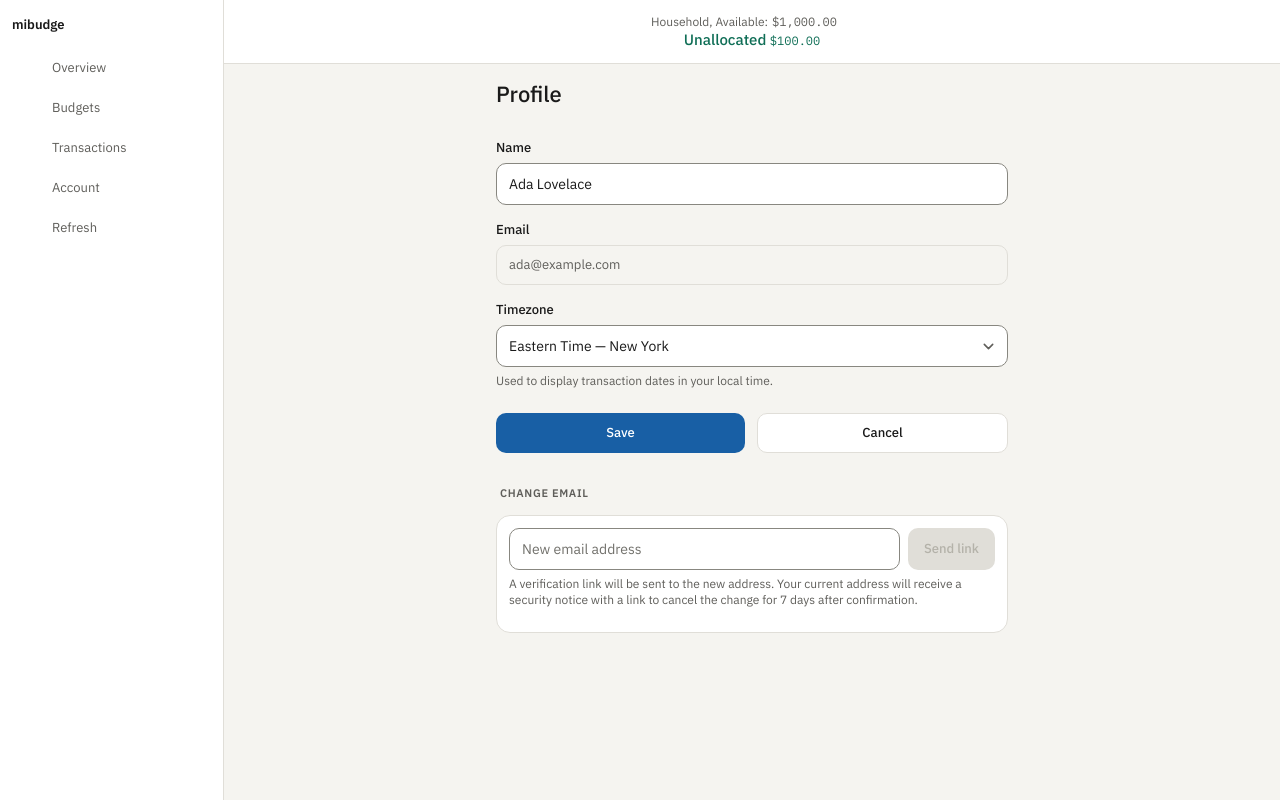
Scenario: UserProfileView › explains a conflicting email change
This screenshot has width=1280, height=800.
Check: the element that starts with "Profile" is shown, box 496,79 -> 1008,632
In the field with placeholder "New email address": x=704, y=548 509,528 -> 900,570, type "new@example.com"
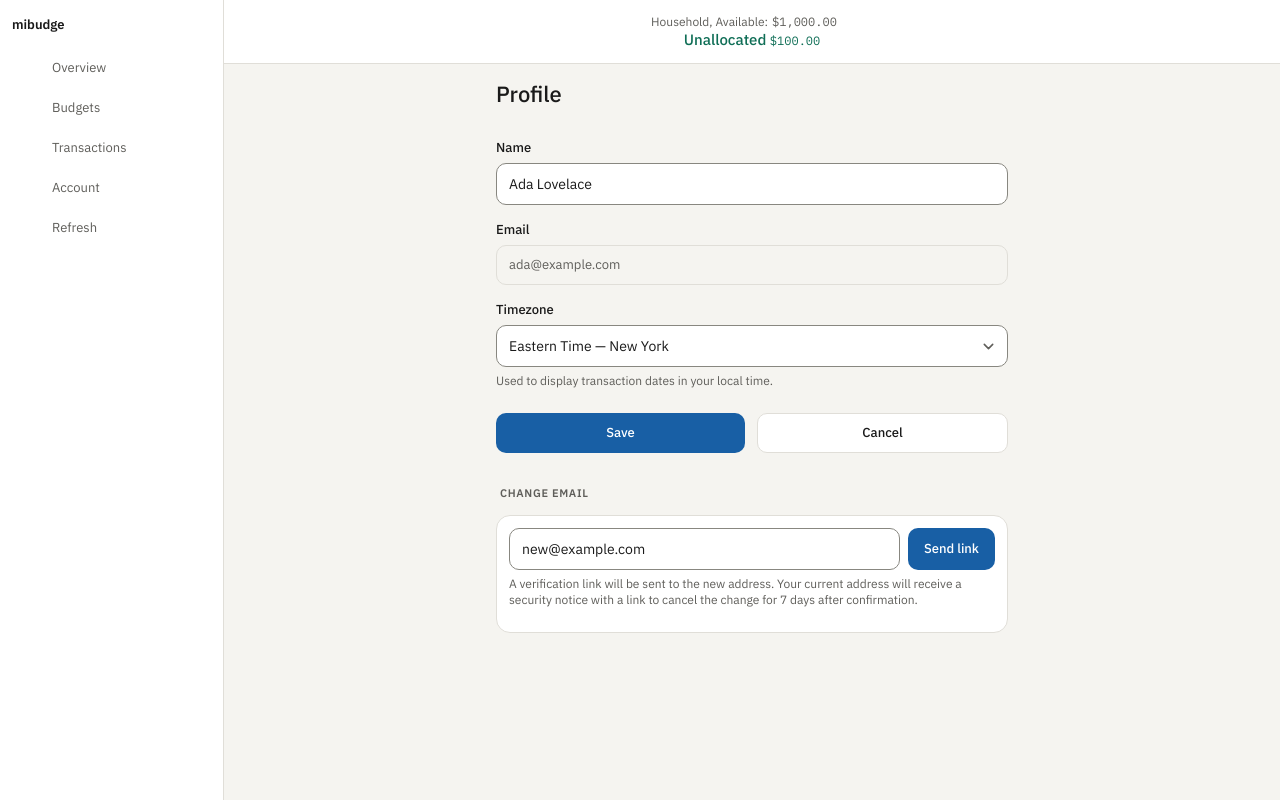
Submit the form "Send link", box 509,528 -> 995,570
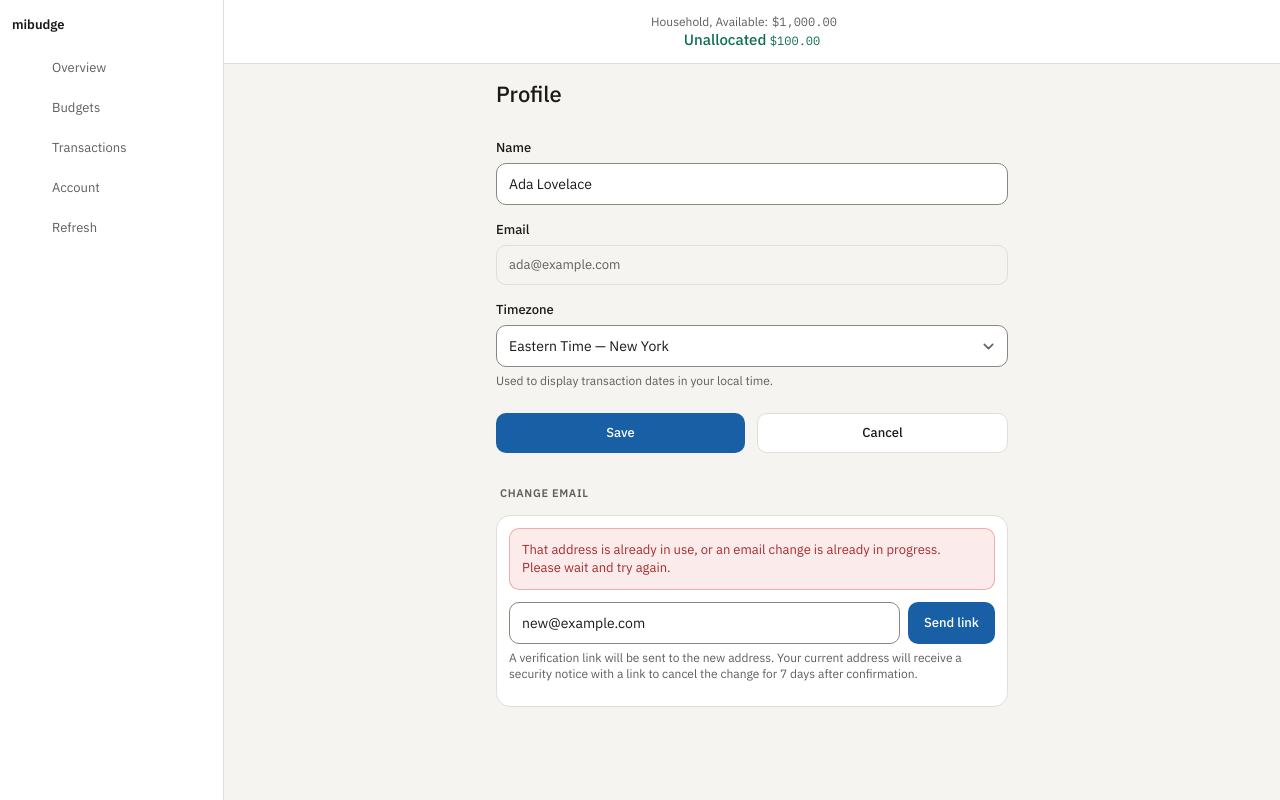
Check: the text "already in use" is shown, box 522,540 -> 941,576
